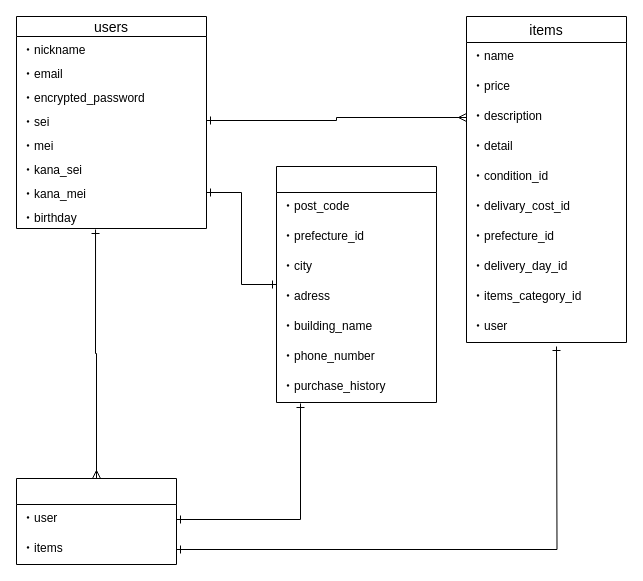
Image size: 643x581. Some labels were removed from this diagram. The shapes that lost their labels are listed below. From the top down, each one's box as (x1, y1, x2, y2) in pixels, then its label:
(276, 166, 436, 402): orderer_info
(16, 478, 176, 564): purchase_history
